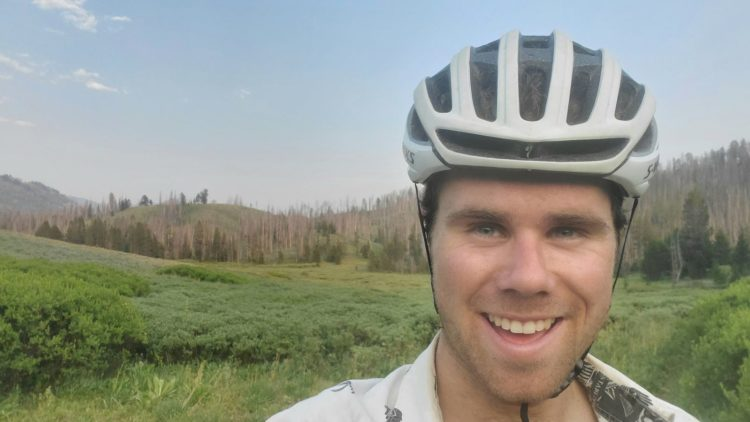helmet: (404, 31, 658, 405)
